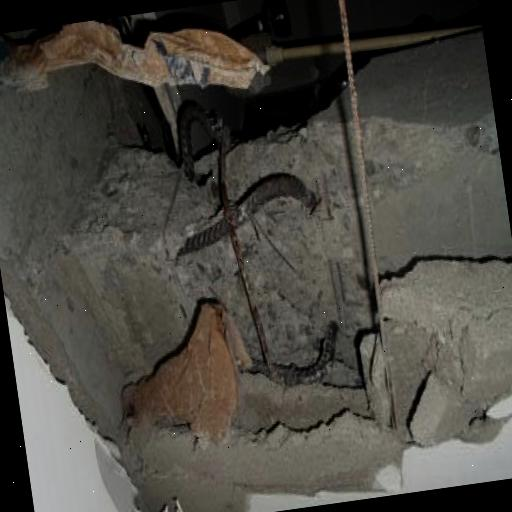spalling: (67, 118, 467, 389)
